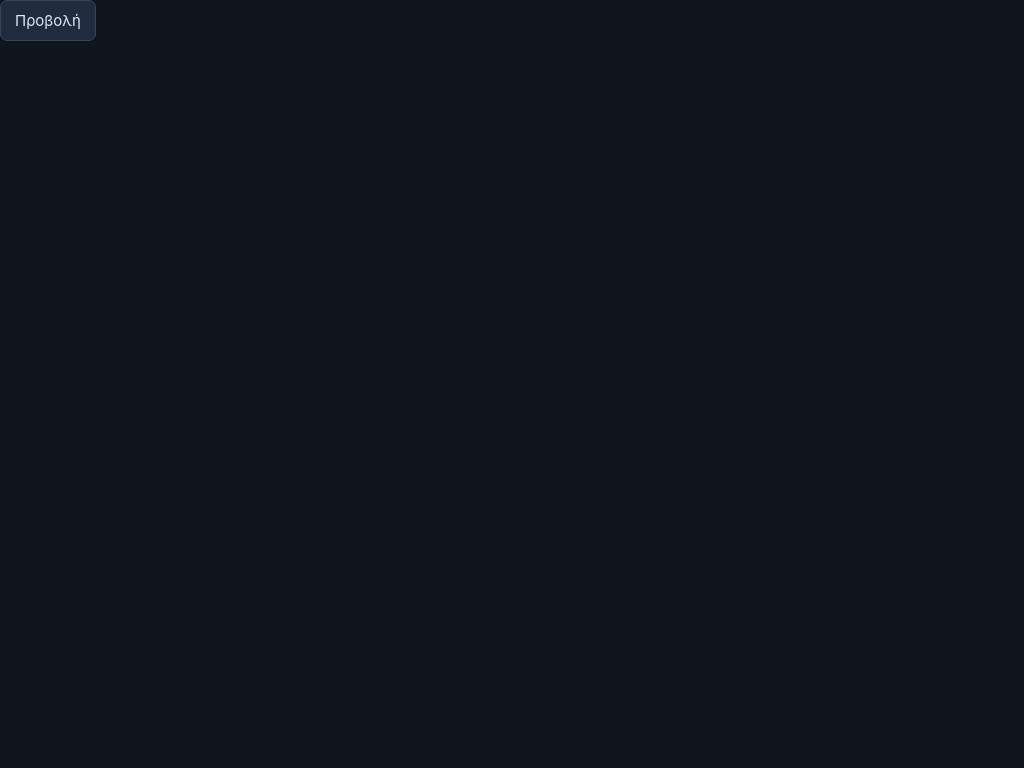
safe file preview dialog › restores focus only after closing the native top layer
This screenshot has width=1024, height=768.
Later steps or results of the test are not shown.
Click the button "Προβολή".
click(48, 20)  # box [0,0,96,41]
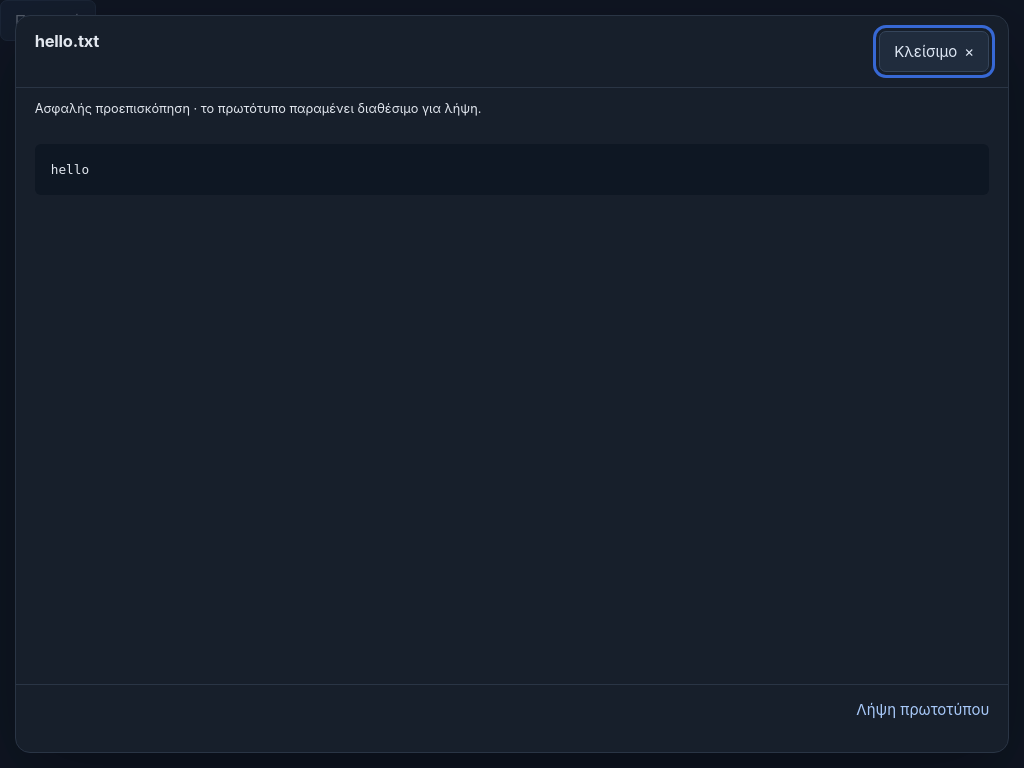
Expected: the text "hello" is shown, [35,144,989,195]
